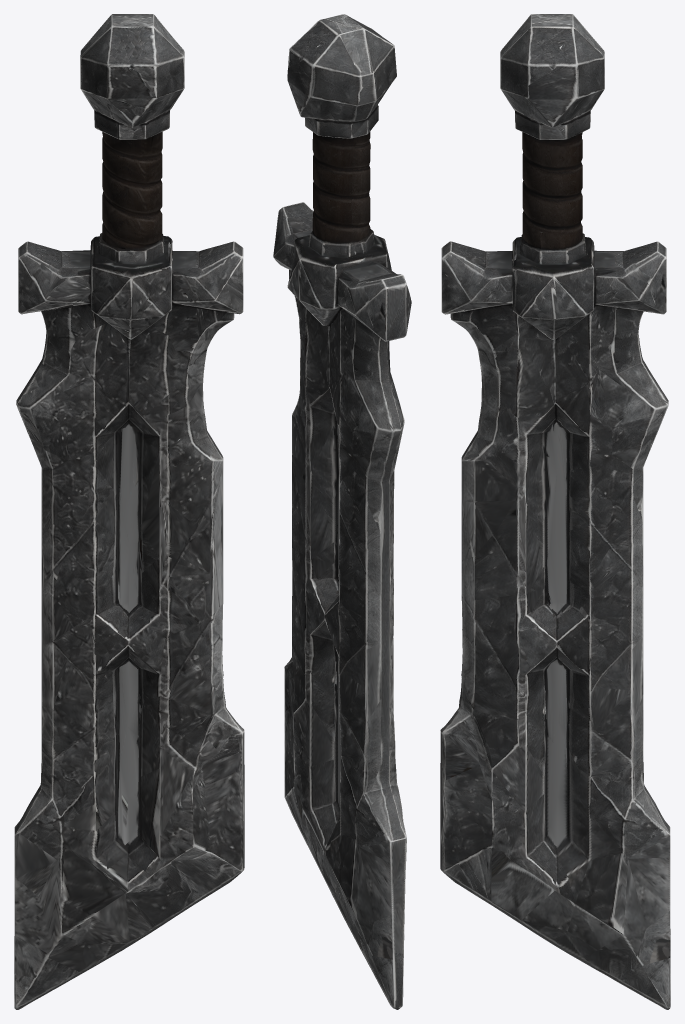
Rendered from Sword_Iron.fbx.
3 views of the same model, side by side, from view 1: azimuth 90°, elevation 25°; view 2: azimuth 210°, elevation 25°; view 3: azimuth 270°, elevation 25° (orthographic). The views are drawn at different scales.
Visible parts, largest first — view 1: Sword_Iron; view 2: Sword_Iron; view 3: Sword_Iron.
Boxes of the visible parts, x1=… form: Sword_Iron: x1=14, y1=14, x2=244, y2=1009; Sword_Iron: x1=273, y1=14, x2=411, y2=1009; Sword_Iron: x1=440, y1=14, x2=670, y2=1009.
Size of the model in its own units: 49.94 by 520 by 110.
1 material, 1 textured.
